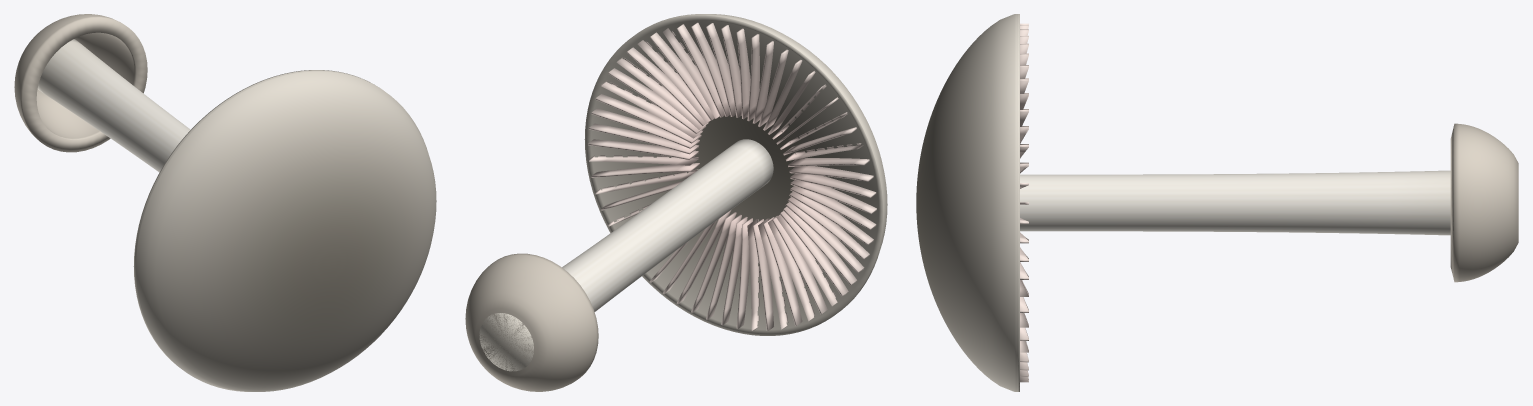
The model's file is volvariella-volvacea.glb.
The picture shows the model from 3 angles, left to right: view 1: azimuth 30°, elevation 25°; view 2: azimuth 150°, elevation 25°; view 3: azimuth 270°, elevation 25°; orthographic projection. The views are drawn at different scales.
Visible parts, largest first — view 1: pileus_cap, volva_cup, stipe_stem; view 2: lamellae_gills, pileus_cap, stipe_stem, volva_cup; view 3: pileus_cap, stipe_stem, volva_cup, lamellae_gills.
Part boxes in pixels (x1,y1,x2,y2): pileus_cap: (133,70,436,391); volva_cup: (14,14,147,152); stipe_stem: (37,39,190,172); lamellae_gills: (588,22,876,330); pileus_cap: (584,14,887,335); stipe_stem: (479,139,773,371); volva_cup: (465,253,598,391); pileus_cap: (916,14,1019,391); stipe_stem: (1020,170,1450,235); volva_cup: (1450,123,1518,282); lamellae_gills: (1020,23,1028,382).
Bounding box in the file's own units: 2 × 2 × 3.19.
